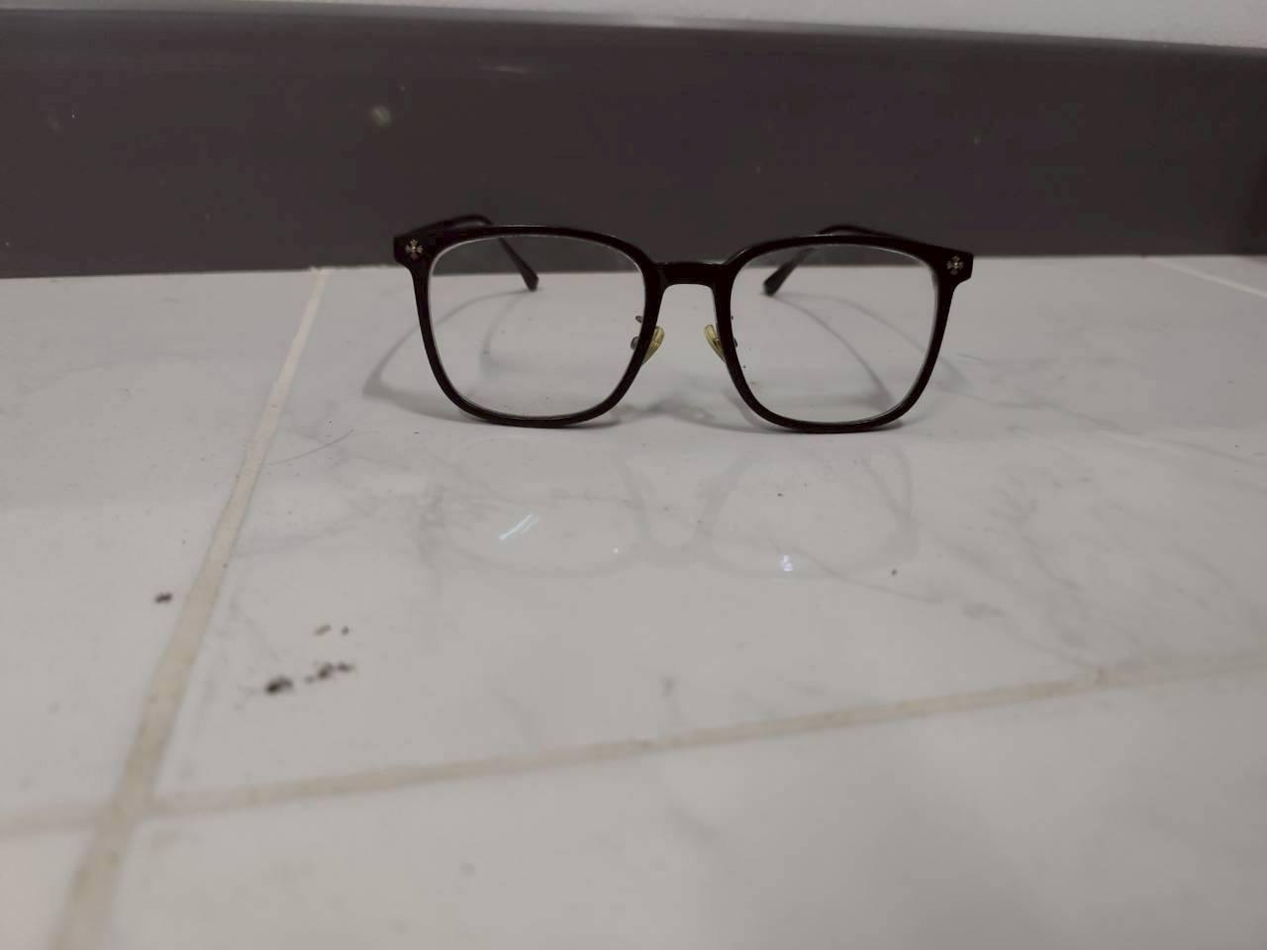glasses: (397, 192, 974, 458)
